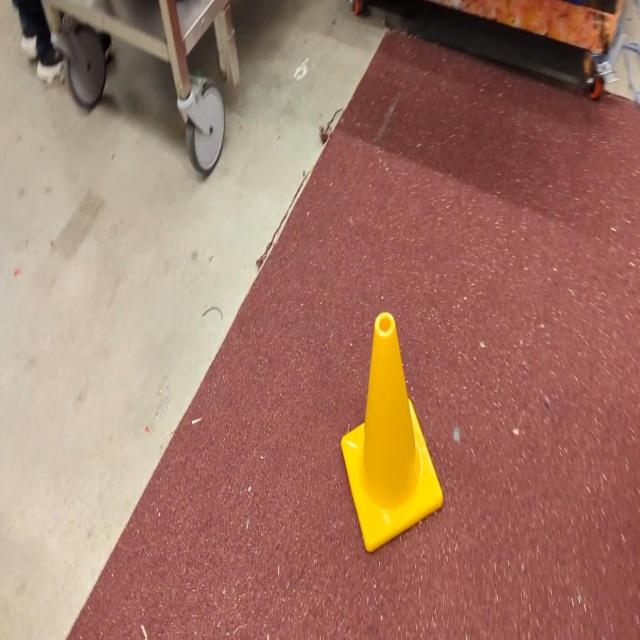frc_cone: (340, 309, 444, 554)
